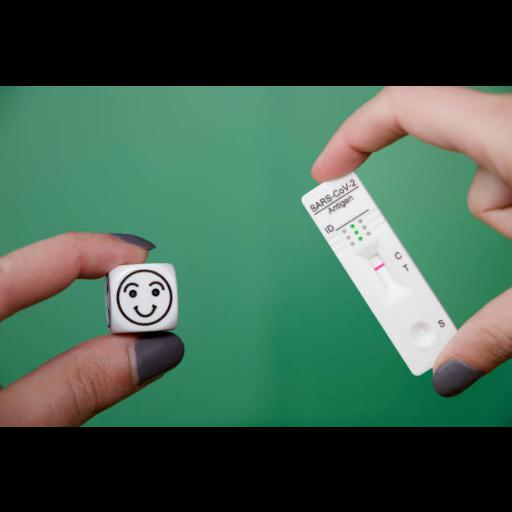Neg: (302, 168, 467, 374)
